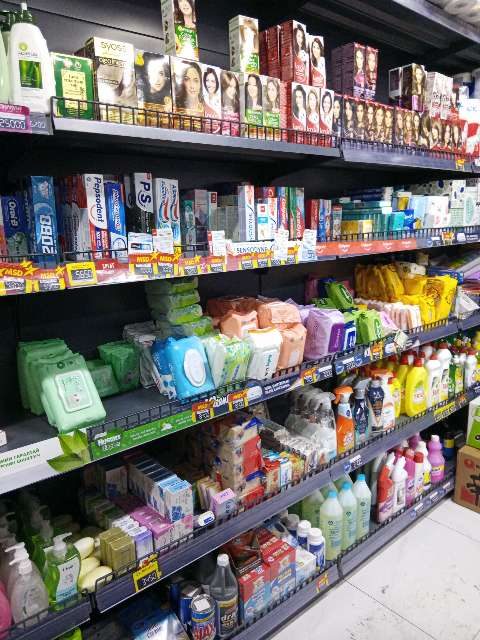2080: (27, 176, 60, 264)
aquafresh: (157, 180, 173, 250)
blend a med: (108, 184, 126, 253)
colgate: (293, 185, 305, 240), (277, 189, 290, 236)
kleenex wipes: (164, 339, 214, 399)
pepsodent: (81, 172, 106, 262)
ps: (131, 174, 155, 241)
